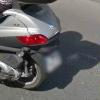Motorcycle: (1, 1, 65, 100)
